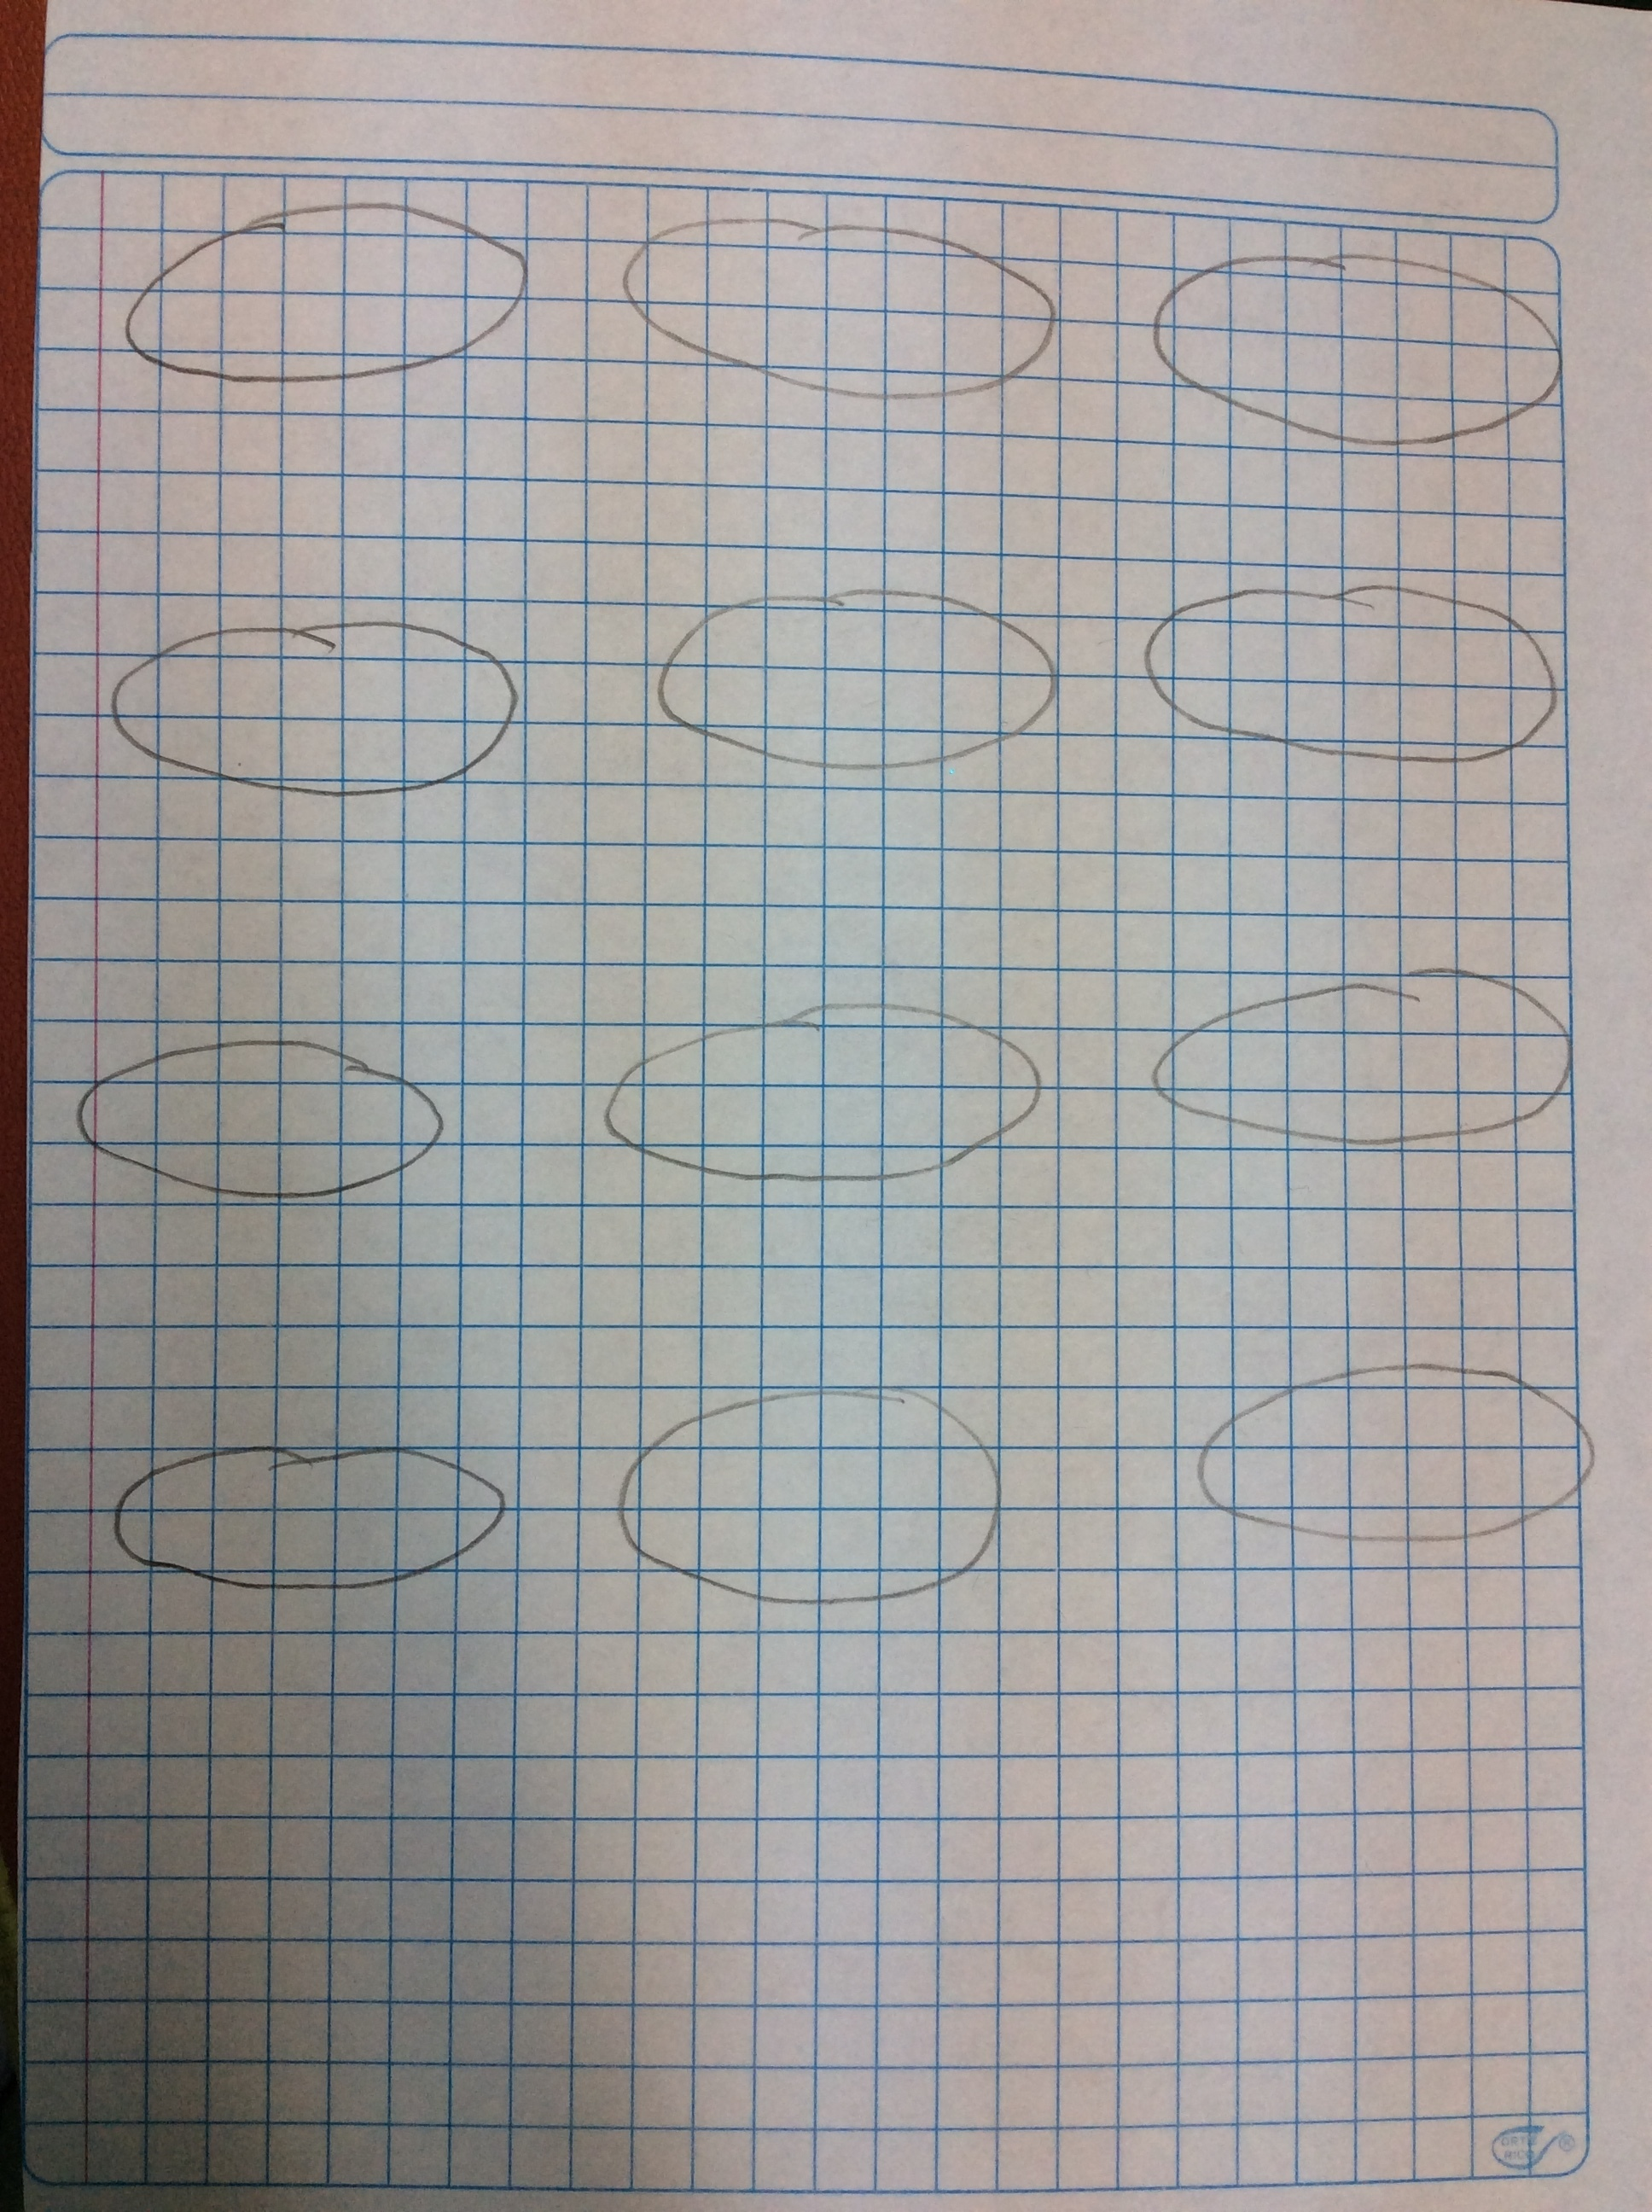start_end: (609, 158, 1071, 444), (1128, 198, 1579, 477), (581, 1362, 1046, 1629), (1118, 946, 1600, 1195), (574, 970, 1067, 1211), (1170, 1317, 1609, 1587), (1121, 536, 1572, 791), (104, 151, 548, 409), (640, 553, 1074, 802), (50, 1001, 479, 1242), (97, 1410, 521, 1645), (104, 597, 534, 815)
